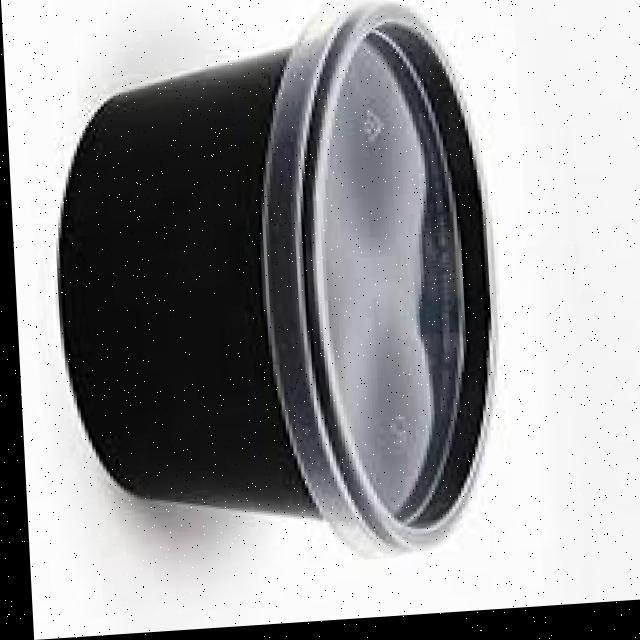disposable: (26, 0, 533, 591)
